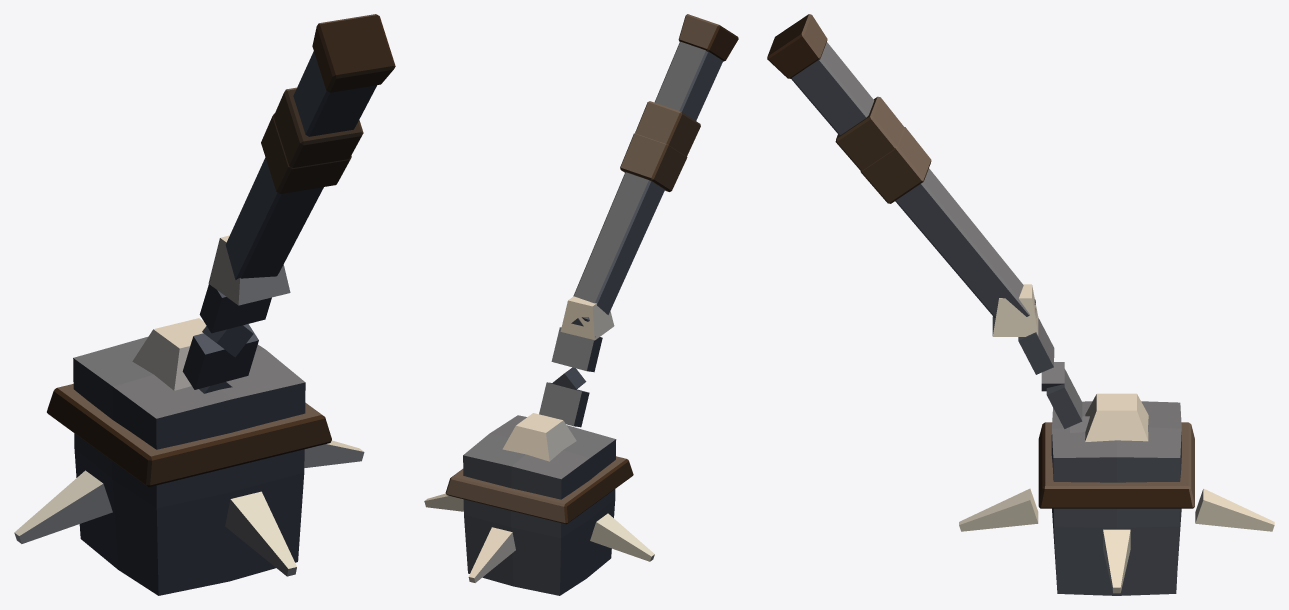
Rendered from 流星锤.glb.
3 renders of one model, left to right at view 1: azimuth 30°, elevation 25°; view 2: azimuth 150°, elevation 25°; view 3: azimuth 270°, elevation 25°, orthographic. The views are drawn at different scales.
Parts seen in each view (by area): view 1: 流星锤; view 2: 流星锤; view 3: 流星锤.
Boxes of the visible parts, bbox=[...] form: 流星锤: bbox=[14, 14, 395, 595]; 流星锤: bbox=[424, 14, 738, 595]; 流星锤: bbox=[767, 14, 1274, 595].
Size of the model in its own units: 0.4108 by 0.7928 by 0.6853.
Materials: 1 (1 with a texture image).
